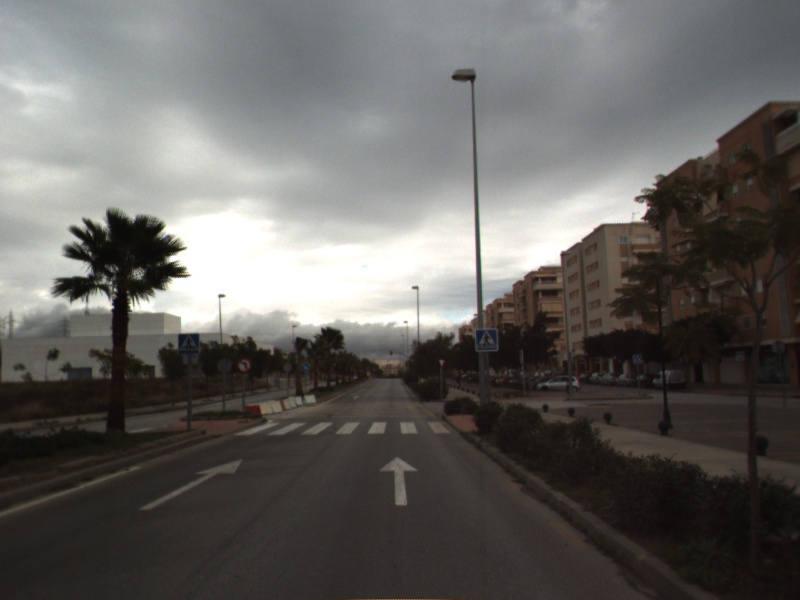STRAIGHT: (137, 456, 245, 512), (377, 454, 420, 507)
